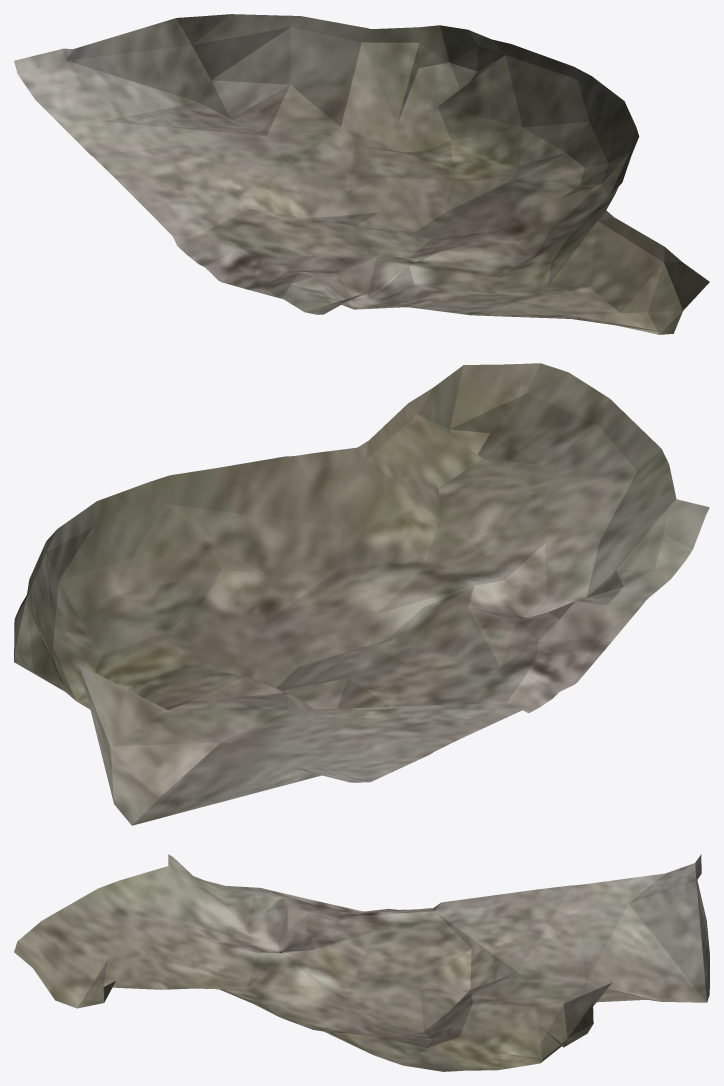
3 renders of one model, top to bottom at view 1: azimuth 30°, elevation 25°; view 2: azimuth 150°, elevation 25°; view 3: azimuth 270°, elevation 25°, orthographic. The views are drawn at different scales.
Size of the model in its own units: 2.66 by 0.6331 by 4.68.
Materials: 1 (1 with a texture image).
